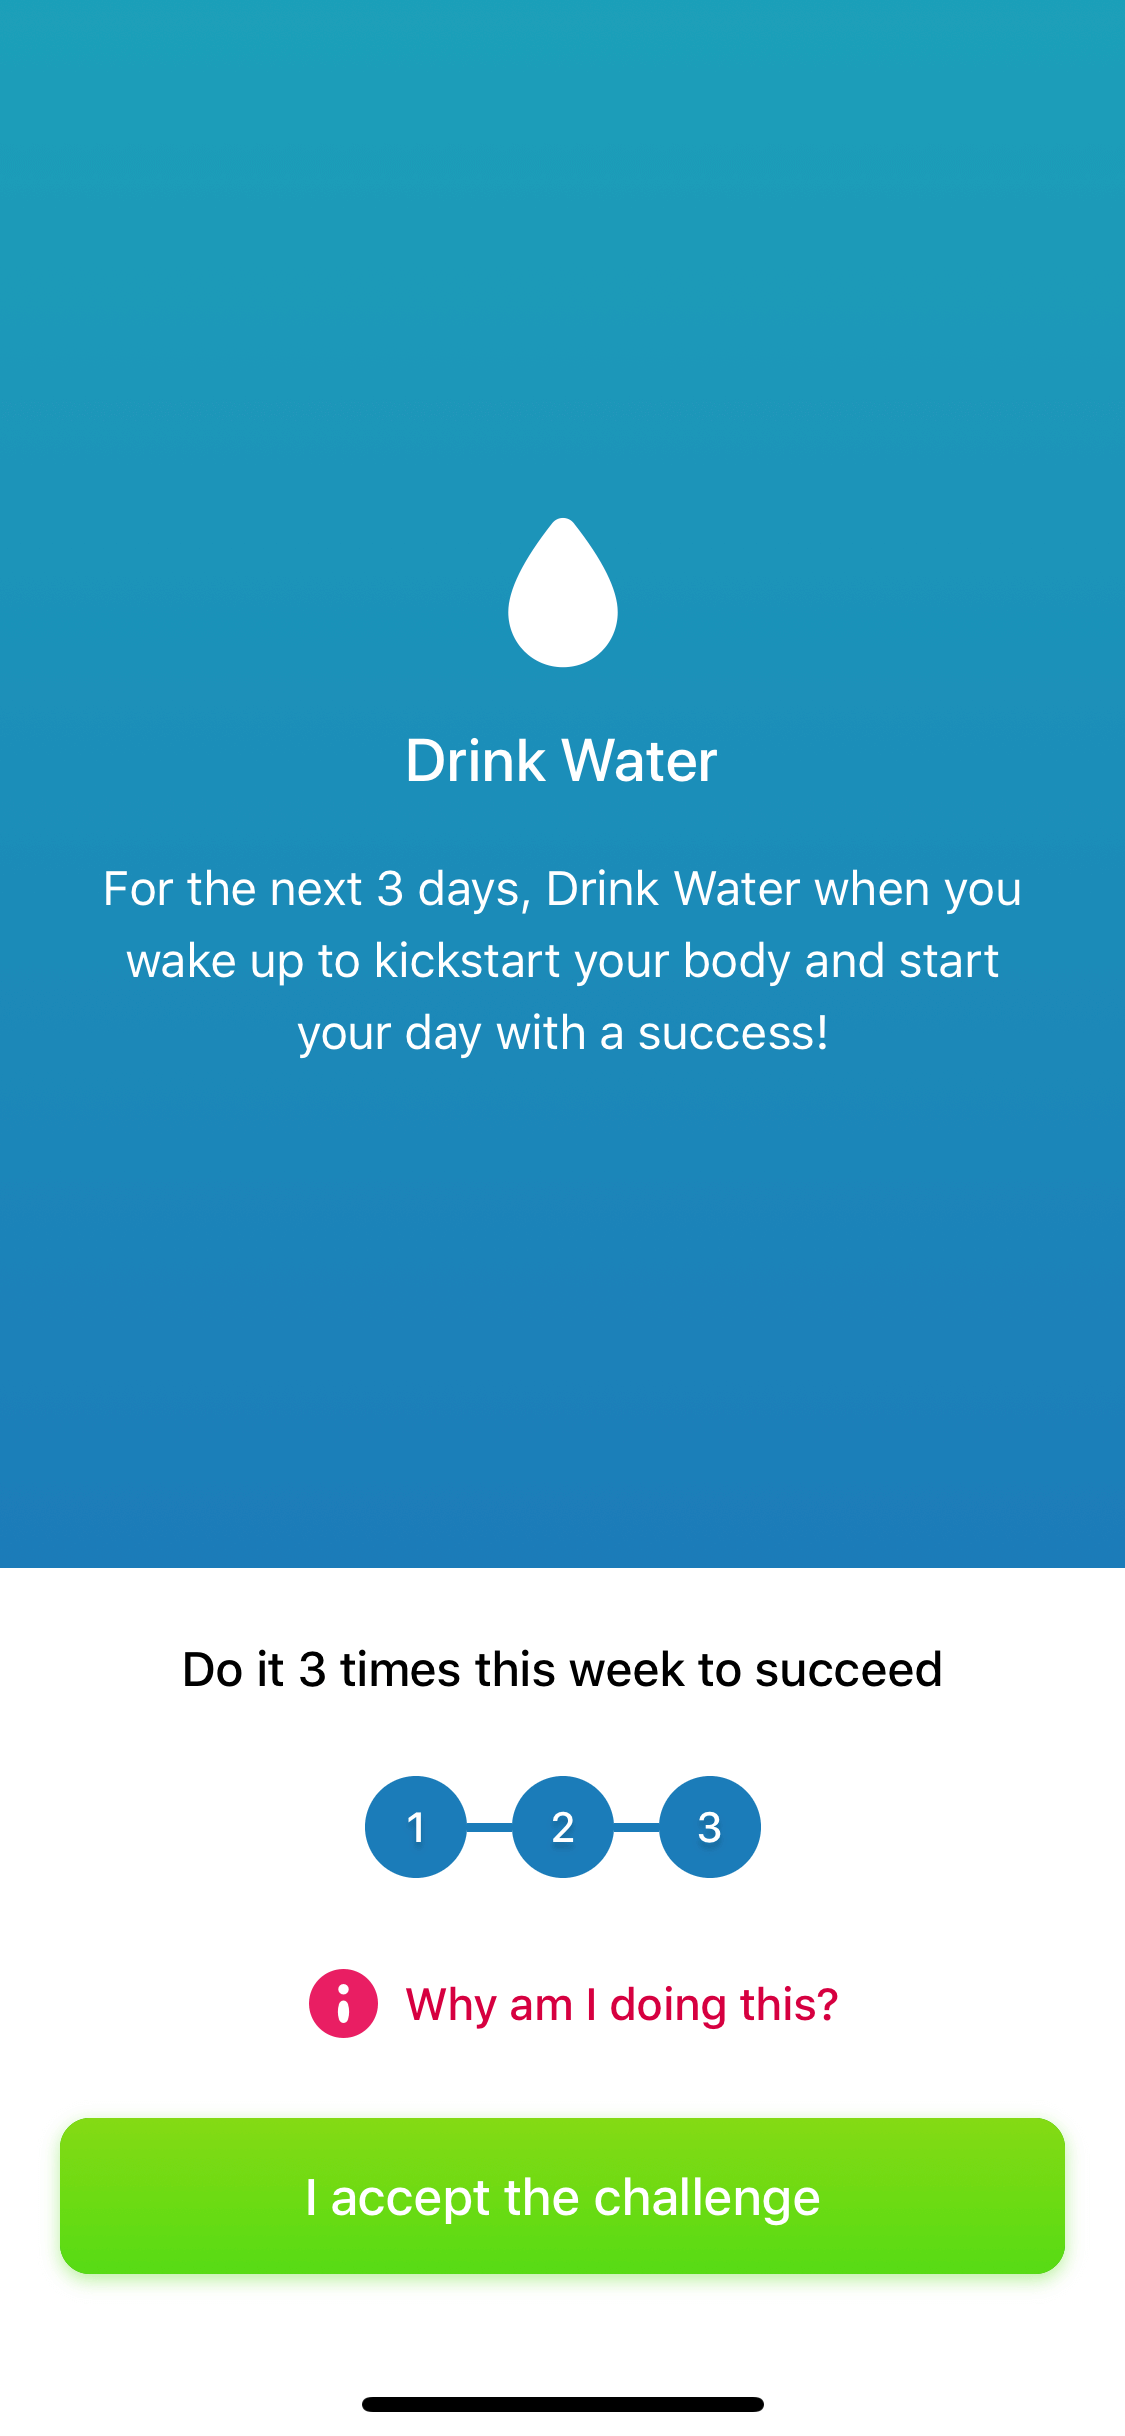Buttons: (36, 2086, 1080, 2304)
